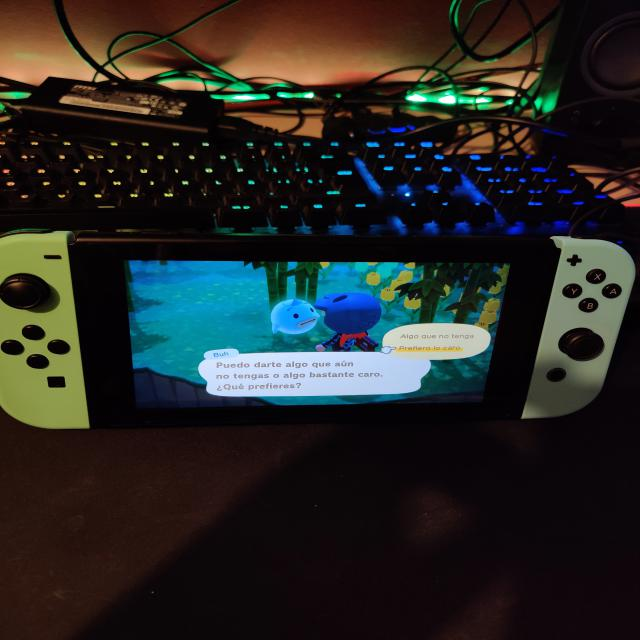text_bubble: (199, 348, 433, 399), (382, 323, 494, 361)
